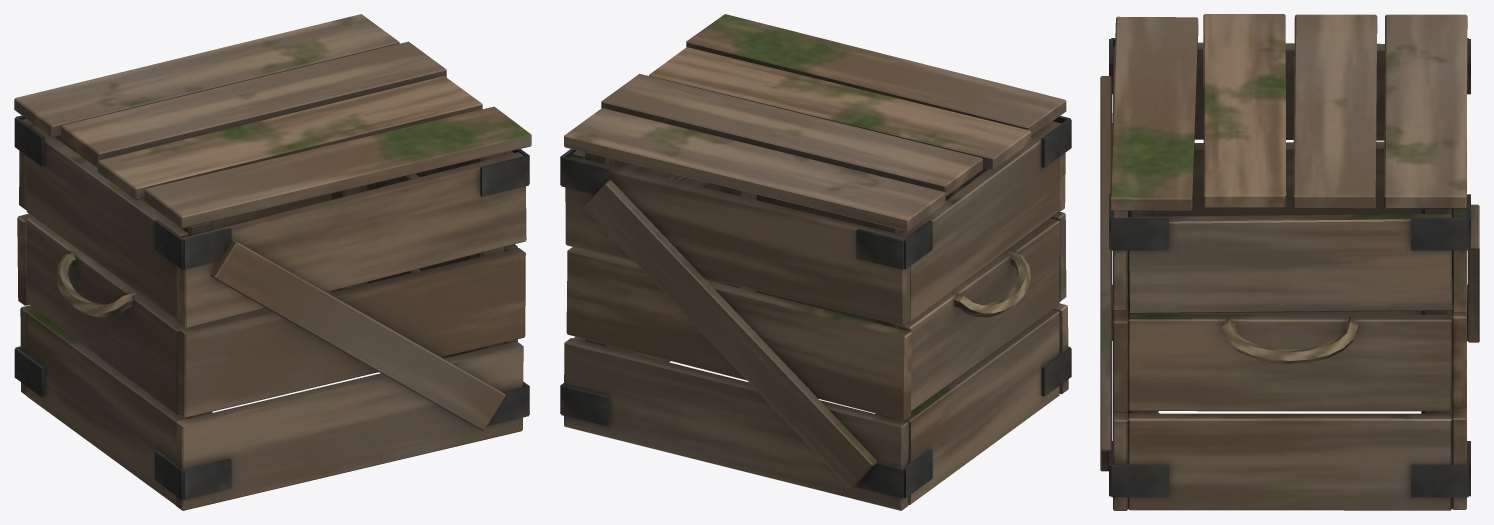
File: fm_crate_wooden.glb
The picture shows the model from 3 angles, left to right: view 1: azimuth 30°, elevation 25°; view 2: azimuth 150°, elevation 25°; view 3: azimuth 270°, elevation 25°; orthographic projection. The views are drawn at different scales.
Parts seen in each view (by area): view 1: fm_crate_wooden; view 2: fm_crate_wooden; view 3: fm_crate_wooden.
Part boxes in pixels (x1,y1,x2,y2): fm_crate_wooden: [14, 14, 531, 510]; fm_crate_wooden: [560, 14, 1071, 510]; fm_crate_wooden: [1100, 14, 1479, 510].
Size of the model in its own units: 0.7277 by 0.521 by 0.5574.
Materials: 2 (2 with a texture image).
